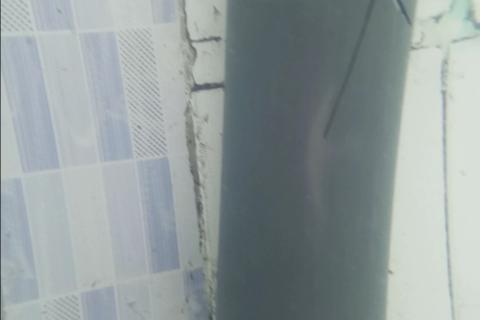keretakan: (319, 0, 376, 137), (394, 0, 414, 32)
